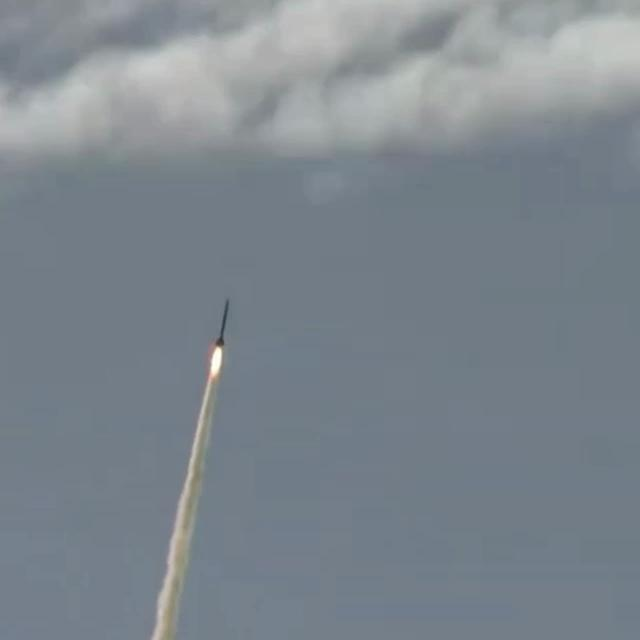rocket: (215, 299, 230, 345)
smoke_trail_with_rocket: (149, 300, 229, 640)
